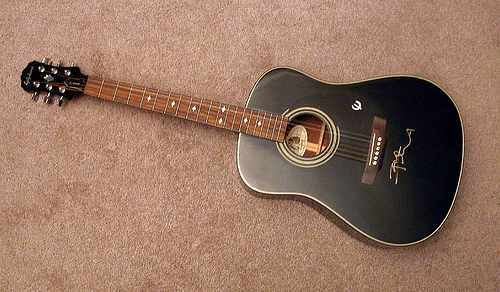guitar: (22, 60, 466, 253)
